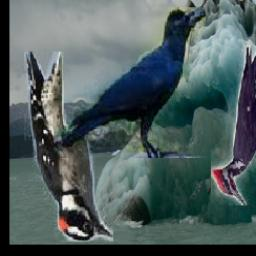Crow: (55, 7, 207, 158)
Woodpecker: (25, 52, 114, 242), (211, 34, 256, 205)
